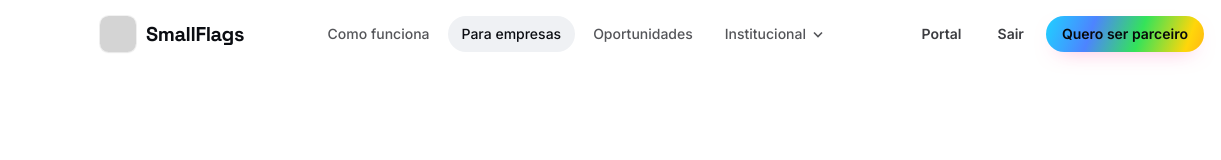
Test: SiteHeader logout global › Sair encerra somente a sessao local e redireciona ao login
The width and height of the screenshot is (1221, 160).
Step 1. Click the button "Sair" → click(1011, 34), box [984,16,1038,52]
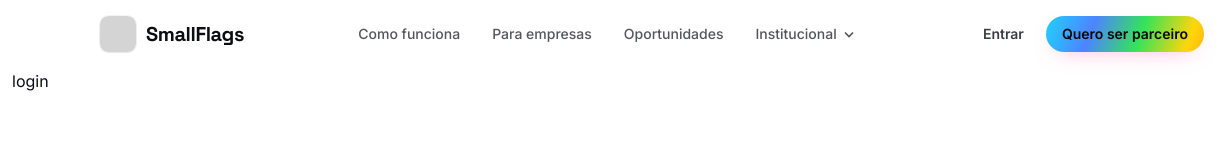
Check: the text "login" is shown, box [12,71,49,91]
